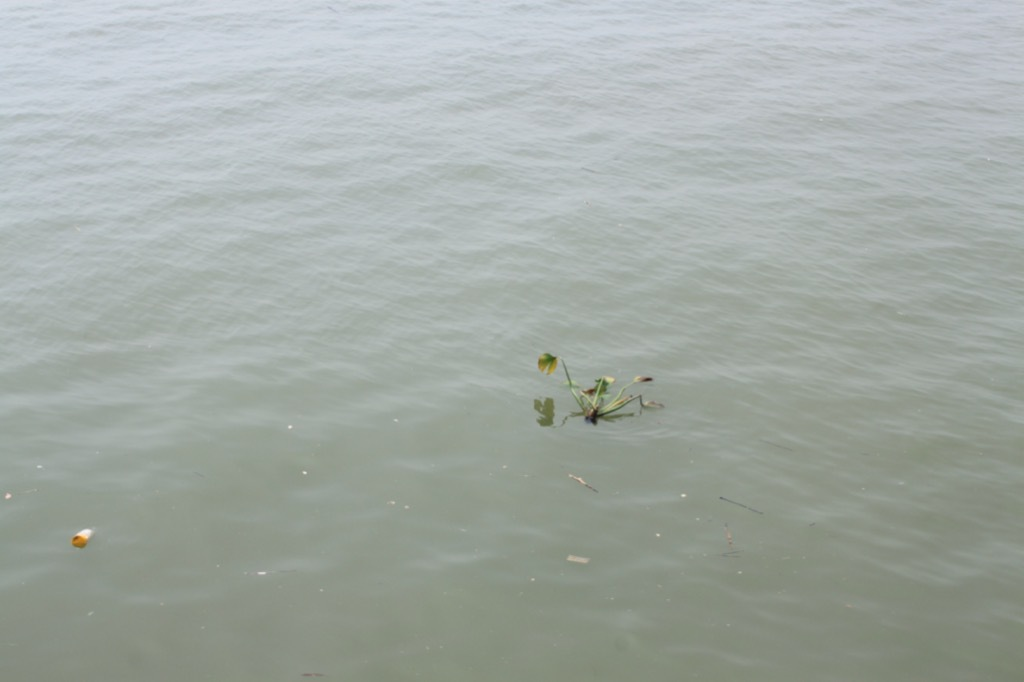organic: (525, 346, 675, 446), (717, 490, 767, 521), (717, 518, 745, 565), (563, 466, 604, 498), (298, 665, 327, 682)
plastic: (70, 520, 97, 553), (560, 547, 595, 568), (1, 482, 15, 505), (252, 566, 271, 580), (677, 489, 691, 501), (283, 421, 298, 432), (299, 466, 310, 478)
